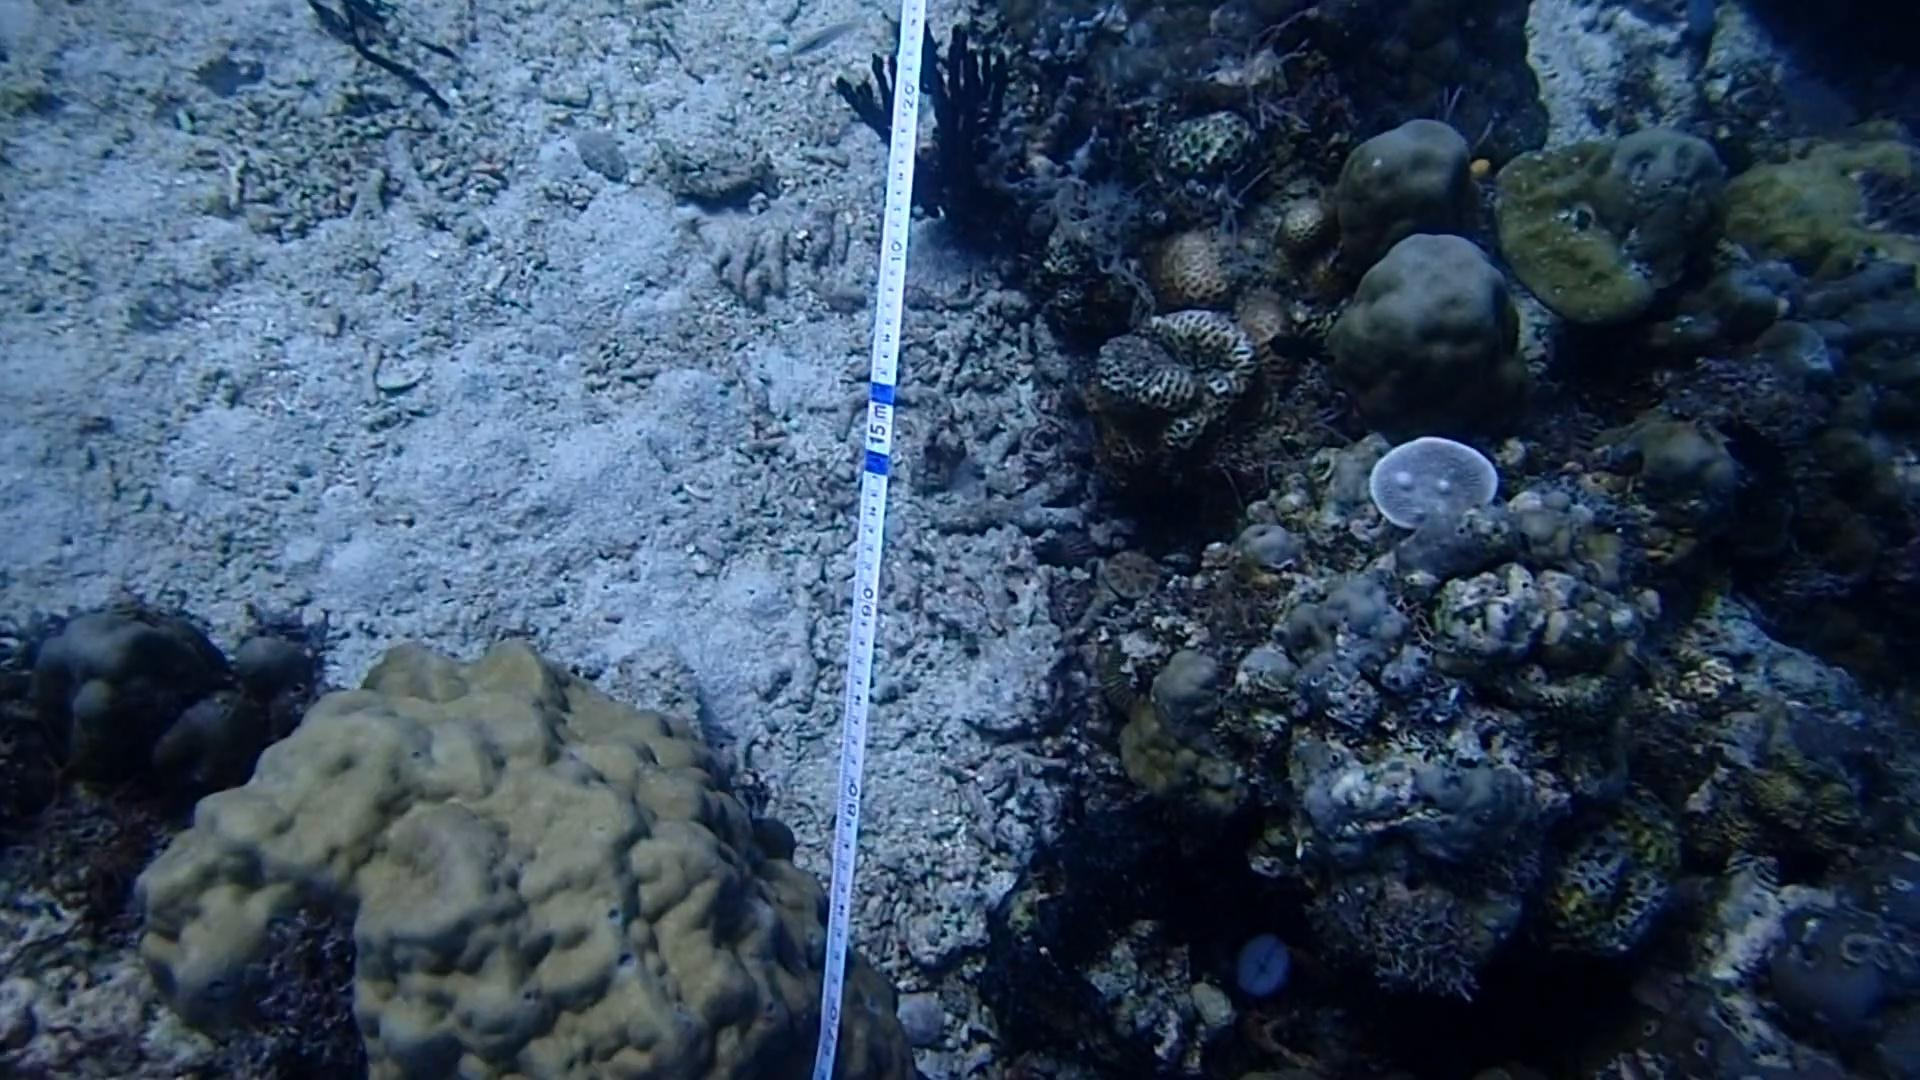Dark Fish: (1258, 316, 1328, 381)
